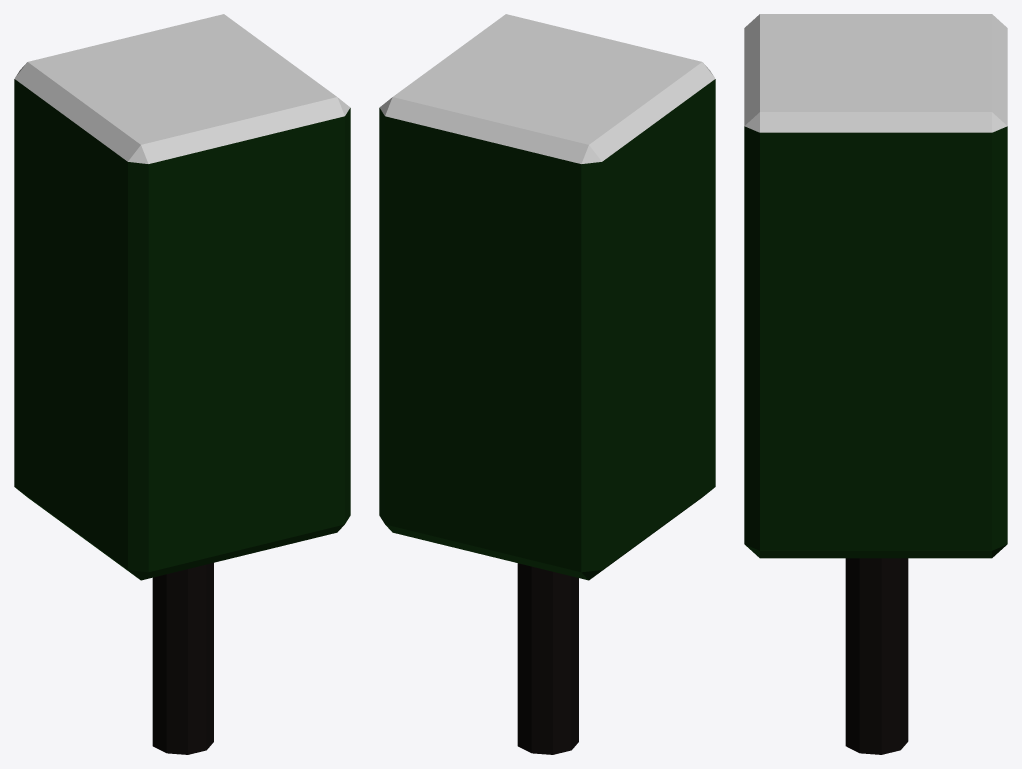
The model's file is Simple_Tree_3_Winter.obj.
The picture shows the model from 3 angles, left to right: view 1: azimuth 30°, elevation 25°; view 2: azimuth 150°, elevation 25°; view 3: azimuth 270°, elevation 25°; orthographic projection. The views are drawn at different scales.
Parts seen in each view (by area): view 1: Simple_Tree_3_Winter_Cylinder.050; view 2: Simple_Tree_3_Winter_Cylinder.050; view 3: Simple_Tree_3_Winter_Cylinder.050.
Boxes of the visible parts, <box> form: Simple_Tree_3_Winter_Cylinder.050: <box>14,14,350,754</box>; Simple_Tree_3_Winter_Cylinder.050: <box>379,14,715,754</box>; Simple_Tree_3_Winter_Cylinder.050: <box>744,14,1007,754</box>.
Size of the model in its own units: 2.42 by 6.88 by 2.42.
